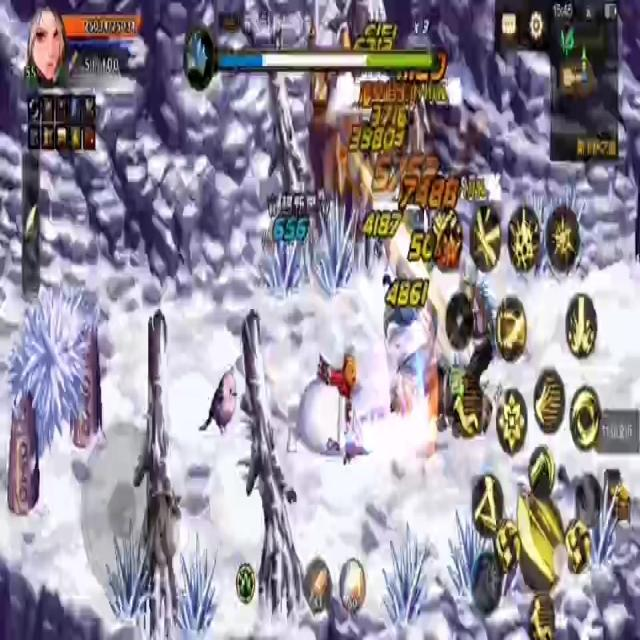player: (287, 340, 362, 469)
